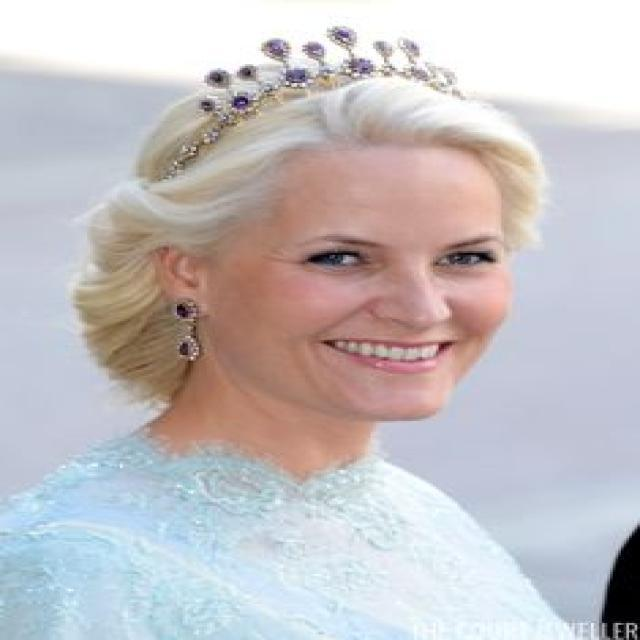Earring: (166, 292, 204, 364)
